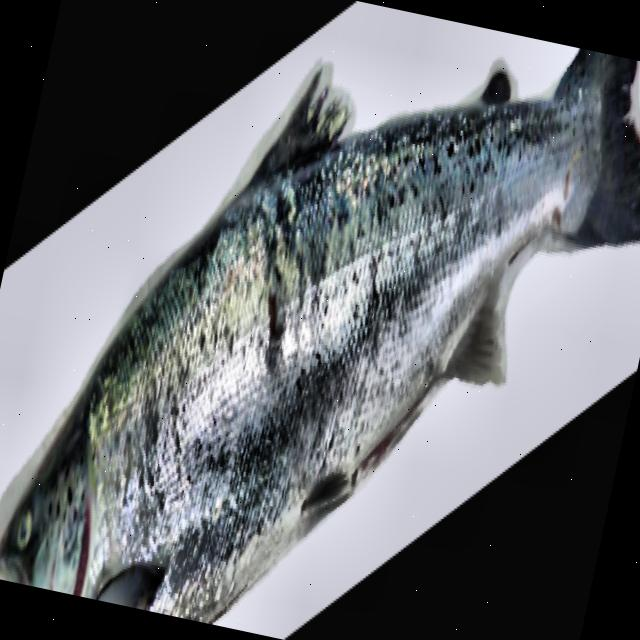mild_red: (84, 94, 599, 621)
